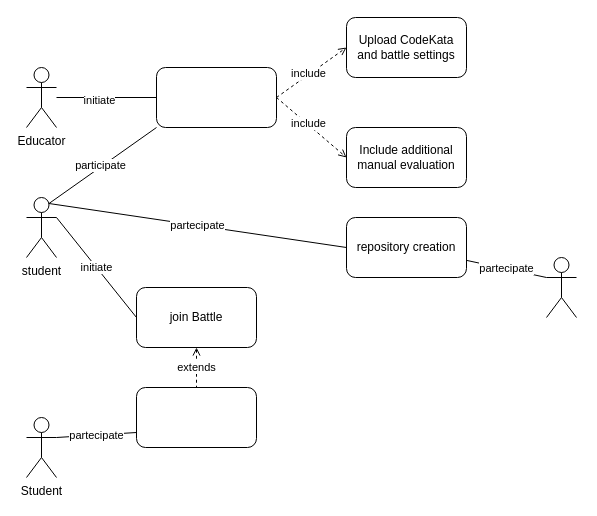
Image size: 597x516. Some labels were removed from this diagram. Here are the shapes that lost their labels. From the top down, the centre of each, then its label:
pixel 216 97: Create Battle
pixel 561 287: GitHub
pixel 196 417: create group
